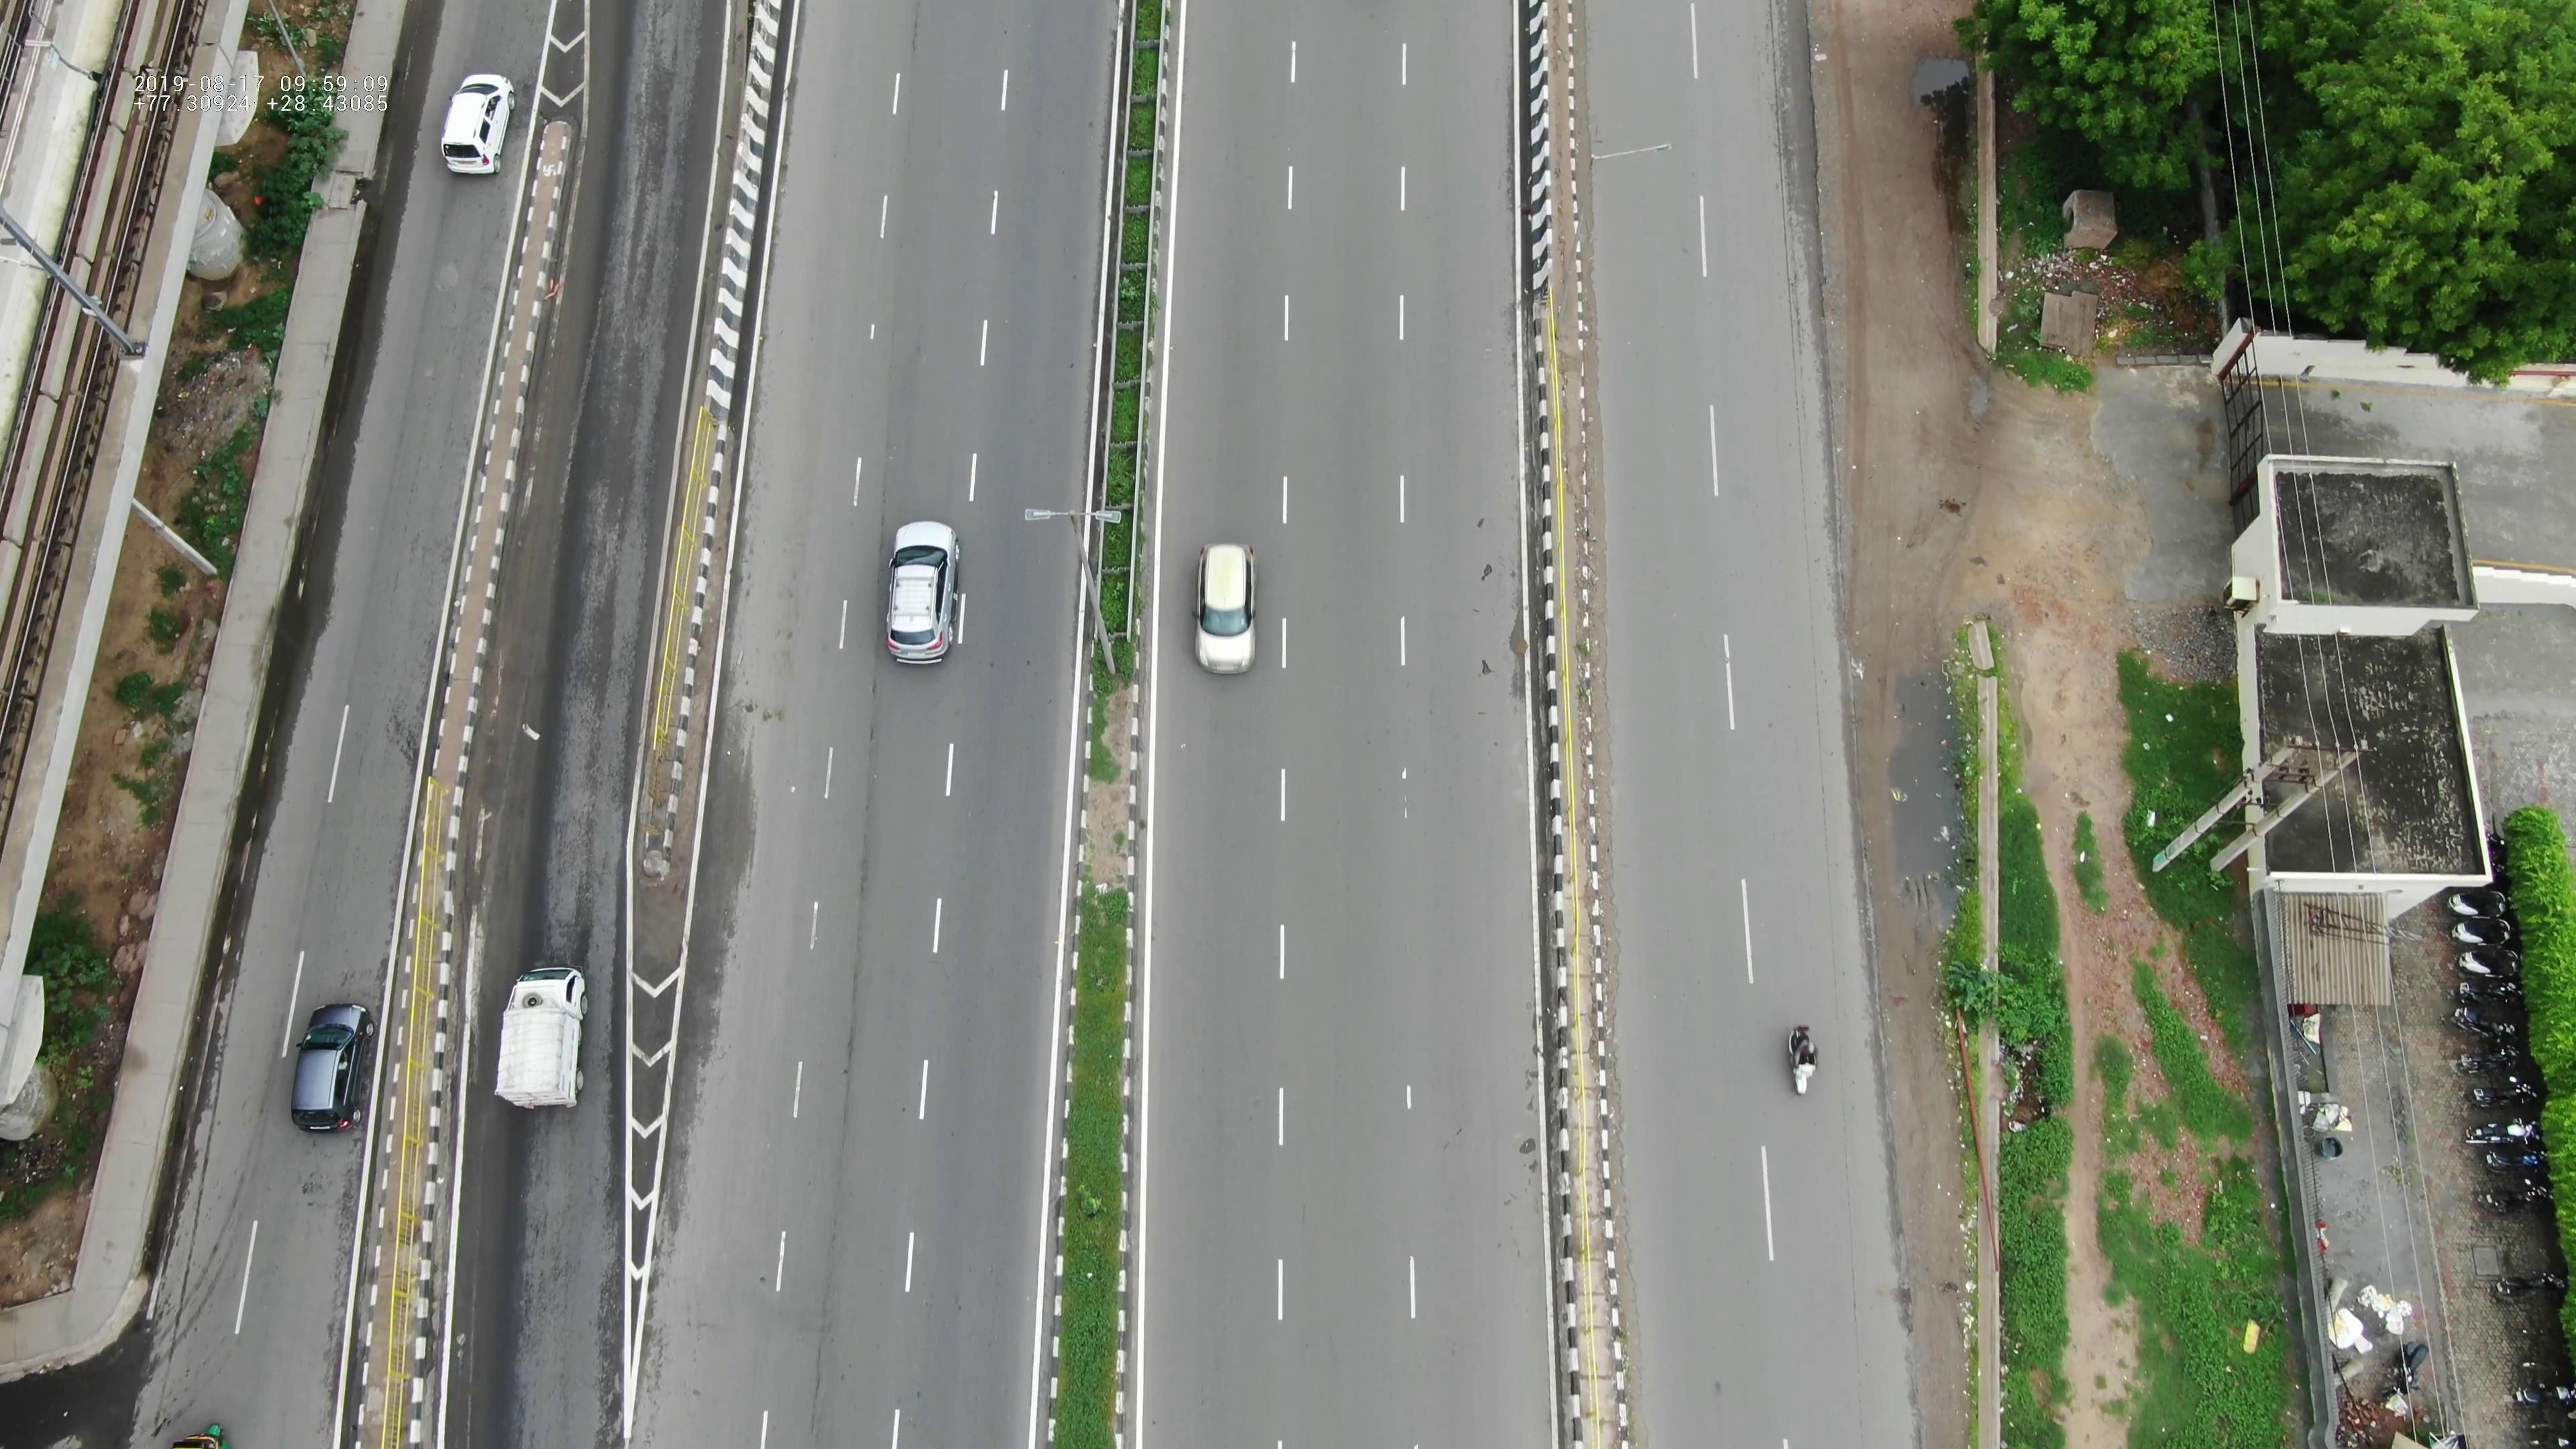Road_side_garbage: (1997, 211, 2171, 380)
Waterlogging: (1835, 616, 1987, 943)
